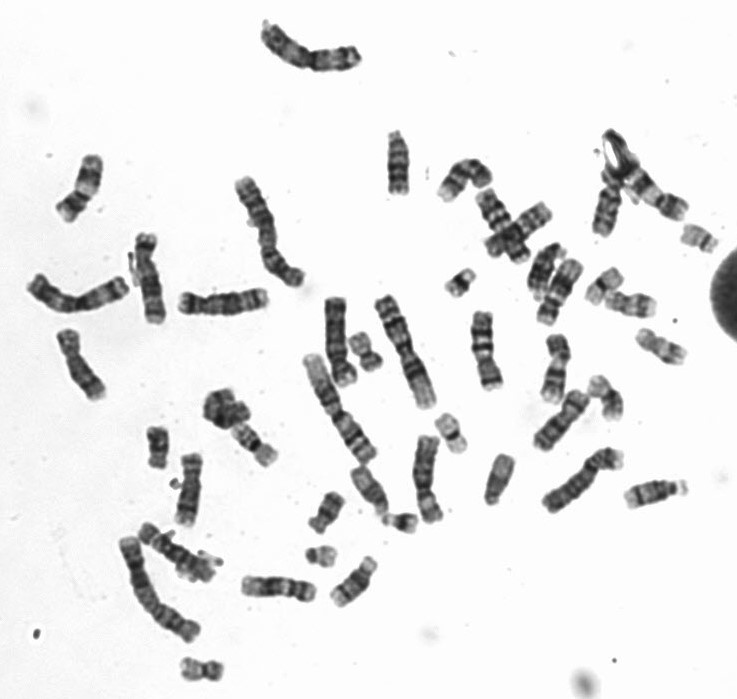chromosomes: (106, 530, 211, 648), (228, 166, 314, 292), (298, 350, 384, 470), (370, 287, 441, 415), (537, 440, 632, 519), (257, 18, 372, 80), (23, 264, 135, 324), (137, 515, 220, 588), (44, 141, 111, 230), (620, 152, 696, 229), (48, 321, 116, 404), (479, 196, 561, 261), (472, 182, 533, 267), (129, 224, 176, 331), (530, 383, 596, 458), (316, 289, 363, 391), (174, 277, 279, 322), (465, 305, 513, 403), (531, 251, 589, 330), (167, 445, 215, 537), (518, 233, 574, 311), (233, 563, 320, 611), (411, 430, 450, 532), (187, 378, 259, 432), (618, 468, 697, 517), (325, 550, 387, 610), (580, 166, 627, 242), (225, 415, 284, 475), (630, 322, 693, 375), (380, 122, 421, 203), (434, 154, 498, 205), (539, 328, 577, 409), (345, 462, 396, 521), (584, 365, 629, 428), (300, 487, 352, 541), (164, 653, 234, 690), (484, 447, 522, 513), (426, 404, 471, 459), (580, 260, 629, 310), (138, 416, 178, 477), (344, 325, 390, 378), (672, 218, 729, 259), (602, 287, 661, 323), (300, 536, 341, 576), (442, 263, 485, 301), (377, 510, 426, 539)
